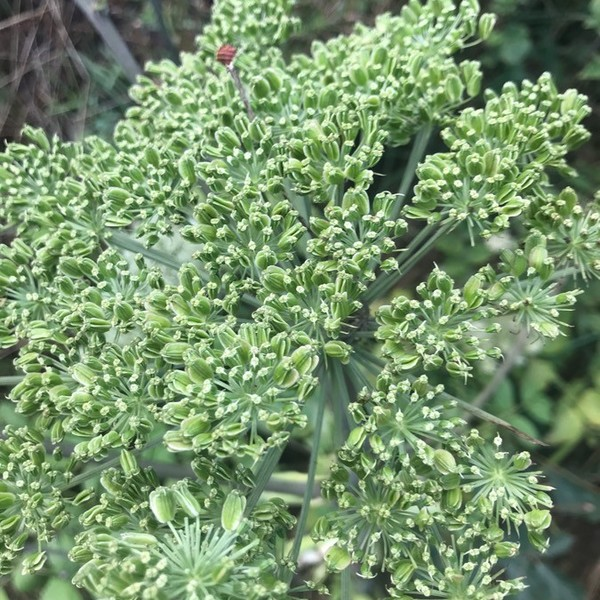obstacle: (65, 46, 527, 565)
